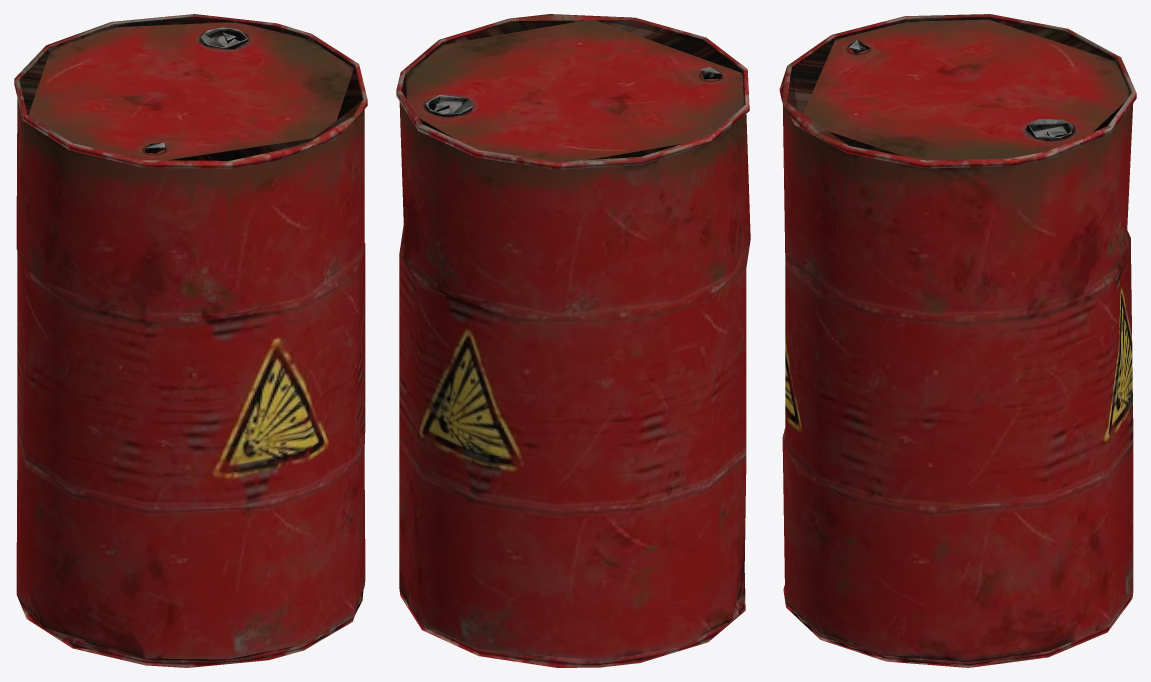
The model's file is barrel.glb.
The picture shows the model from 3 angles, left to right: view 1: azimuth 30°, elevation 25°; view 2: azimuth 150°, elevation 25°; view 3: azimuth 270°, elevation 25°; orthographic projection.
Visible parts, largest first — view 1: Barrel_01; view 2: Barrel_01; view 3: Barrel_01.
Boxes of the visible parts, box(x1,y1,x2,y2) form: Barrel_01: box(14, 14, 367, 667); Barrel_01: box(396, 14, 750, 667); Barrel_01: box(779, 14, 1136, 667).
Bounding box in the file's own units: 0.5522 × 0.8789 × 0.5603.
1 material, 1 textured.
